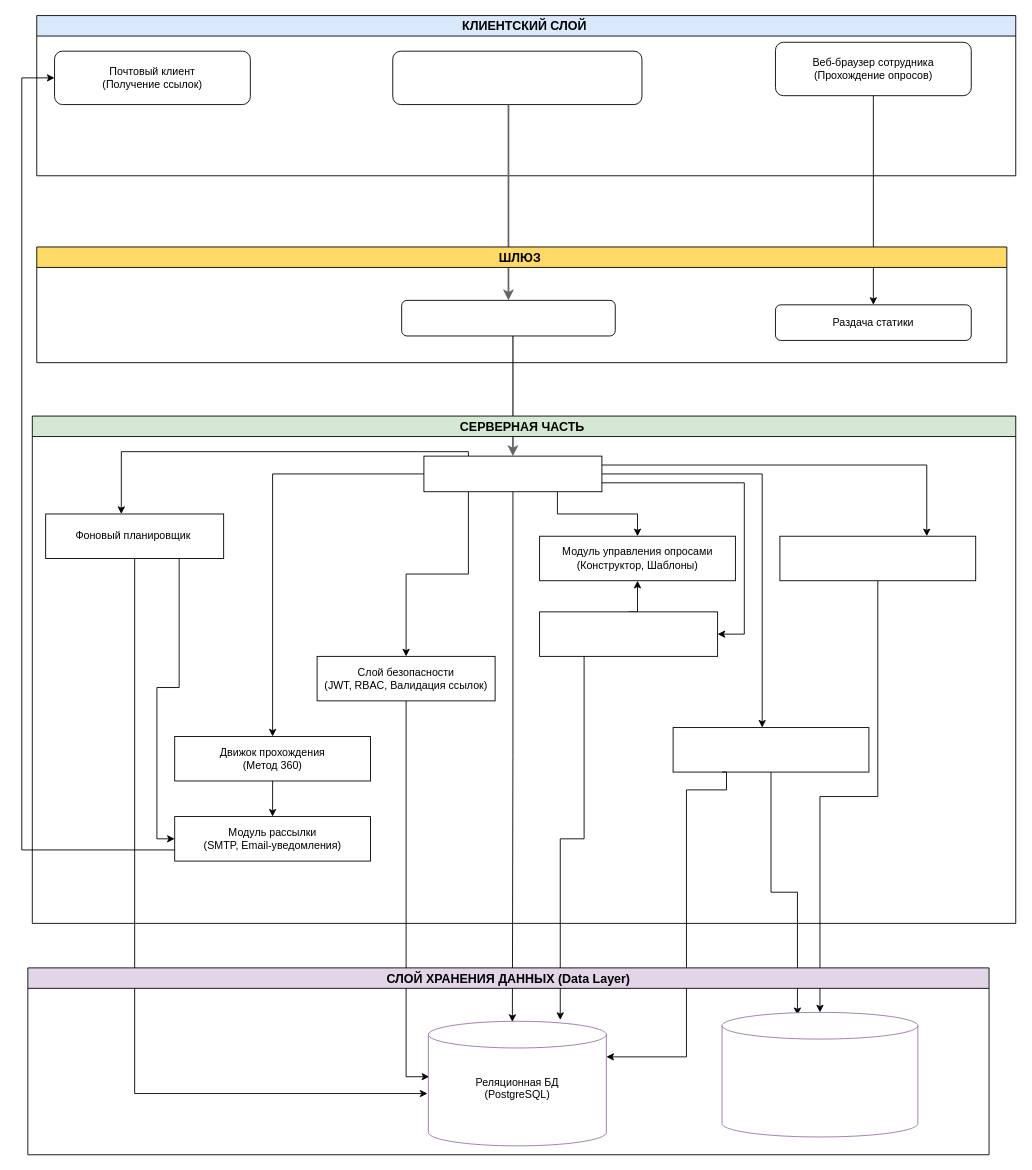
Some shapes in this 1032 by 1170 pixel diagram are drawn without their labels. The shapes that lost their labels are listed below. From the top down, each one's centre as x and y in pixels, then its label:
pixel 517 77: SPA на React + TypeScript (Визуальный конструктор, Дашборды)
pixel 508 317: Проксирование запросов к API (REST)
pixel 512 473: API-Контроллеры (REST)
pixel 877 558: Модуль аналитики и экспорта (Генерация DOCX/PDF)
pixel 628 633: Агент событий (Автосоздание опросов)
pixel 770 749: Импорт иерархии (Парсинг Excel)
pixel 819 1074: Файловое хранилище (Локальное/Volume) Сгенерированные отчеты, Excel
